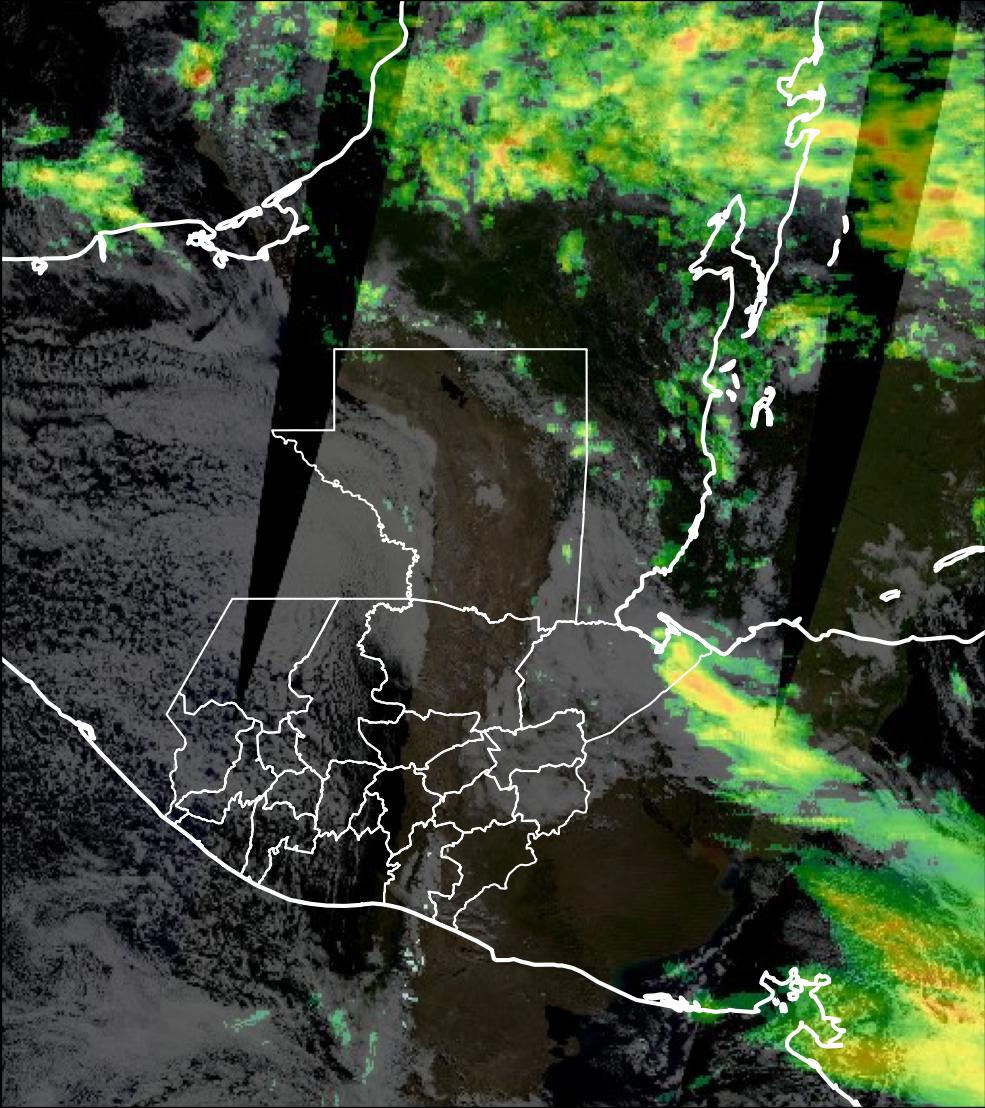precipitacion: (856, 117, 985, 225)
